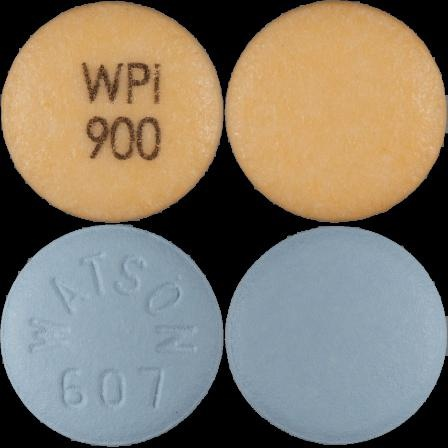21695-967: (0, 0, 224, 224)
